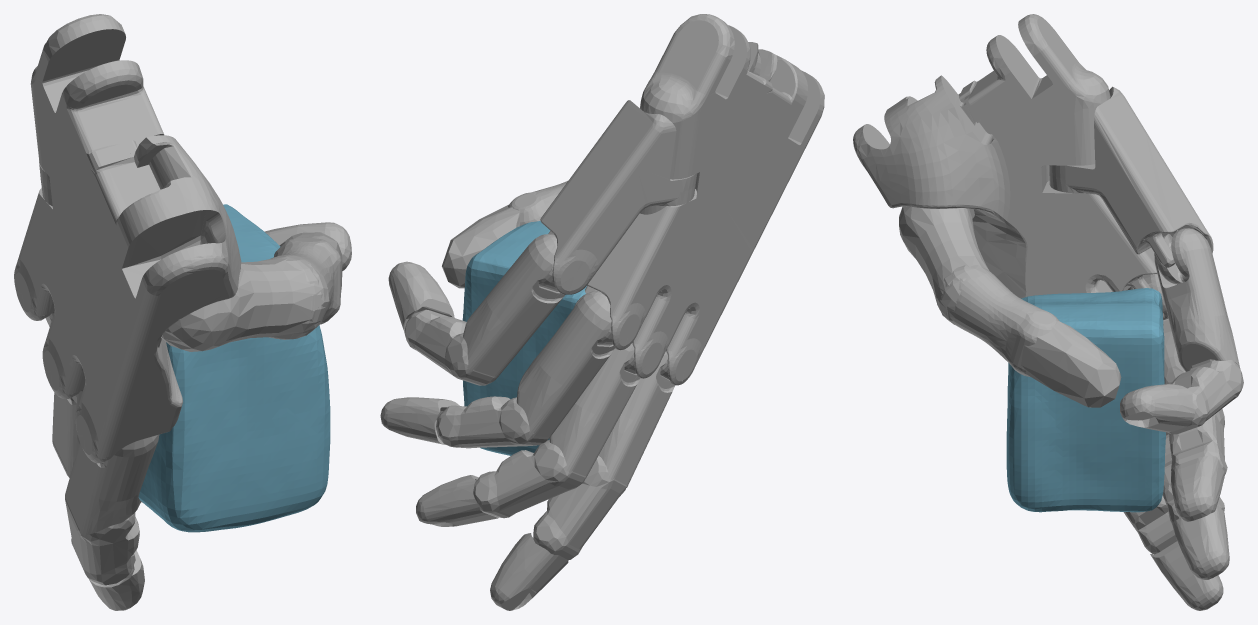
The model's file is ugg_7.glb.
The picture shows the model from 3 angles, left to right: view 1: azimuth 30°, elevation 25°; view 2: azimuth 150°, elevation 25°; view 3: azimuth 270°, elevation 25°; orthographic projection. The views are drawn at different scales.
Parts seen in each view (by area): view 1: world; view 2: world; view 3: world.
Boxes of the visible parts, x1,y1,x2,y2 form: world: (14,14,351,610); world: (380,14,824,610); world: (853,14,1243,610).
Size of the model in its own units: 0.7485 by 1.35 by 0.8865.
